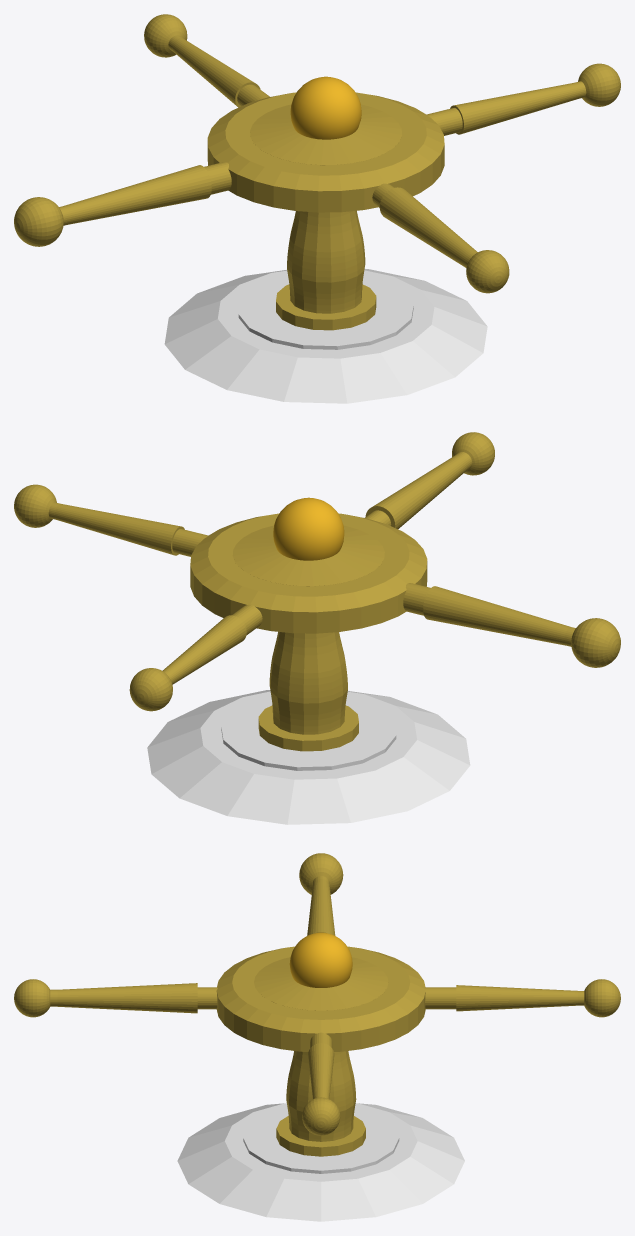
The model's file is RouletteTurret.fbx.
The picture shows the model from 3 angles, top to bottom: view 1: azimuth 30°, elevation 25°; view 2: azimuth 150°, elevation 25°; view 3: azimuth 270°, elevation 25°; orthographic projection. The views are drawn at different scales.
Parts seen in each view (by area): view 1: RouletteTurret; view 2: RouletteTurret; view 3: RouletteTurret.
Boxes of the visible parts, x1=… form: RouletteTurret: x1=14, y1=14, x2=620, y2=403; RouletteTurret: x1=14, y1=432, x2=620, y2=824; RouletteTurret: x1=14, y1=853, x2=620, y2=1221.
Size of the model in its own units: 426 by 173 by 422.
